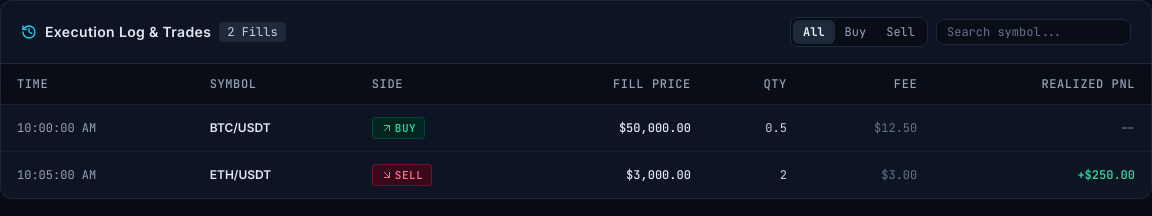
Test: TradeLog Component › filters executions by side when button clicked
The image size is (1152, 216).
Click the button with test id "filter-buy": x=855, y=32 [835,20,876,44]
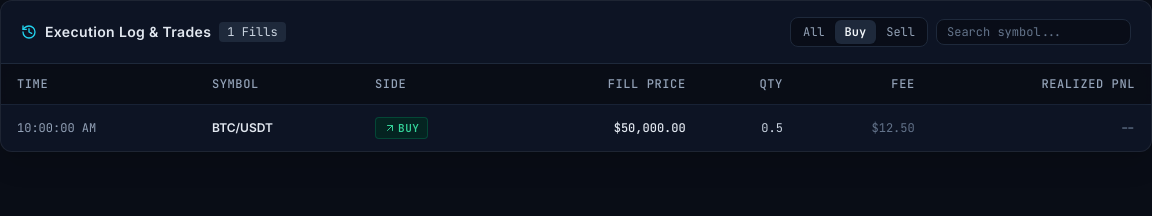
Expected: the row with test id "trade-row-f-1" is shown, [1,104,1151,151]
Expected: the row with test id "trade-row-f-2" is gone
